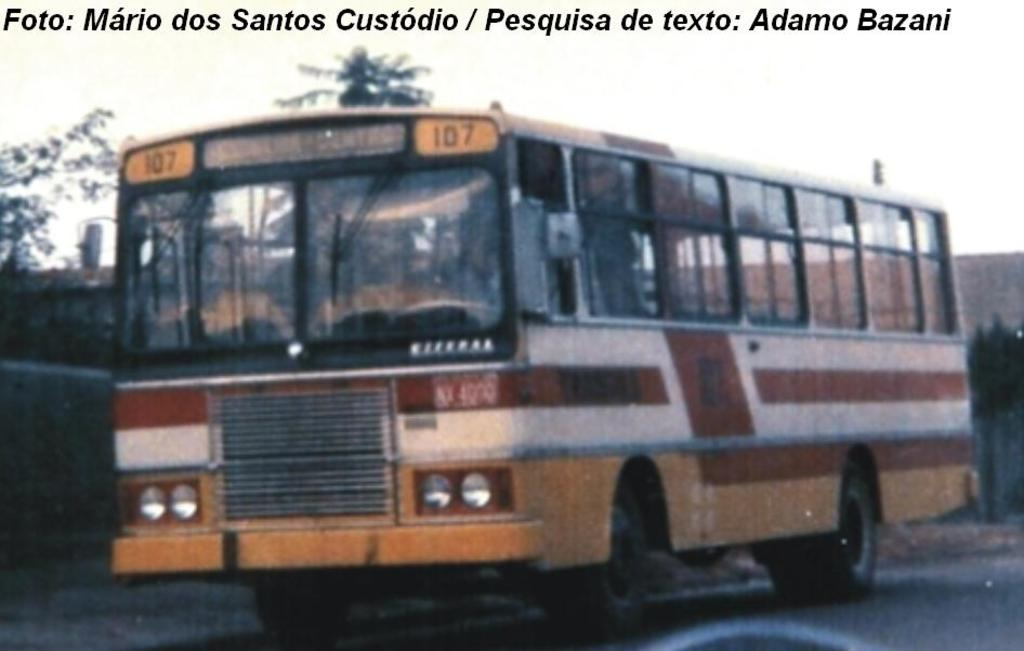Bus: (111, 100, 981, 649)
